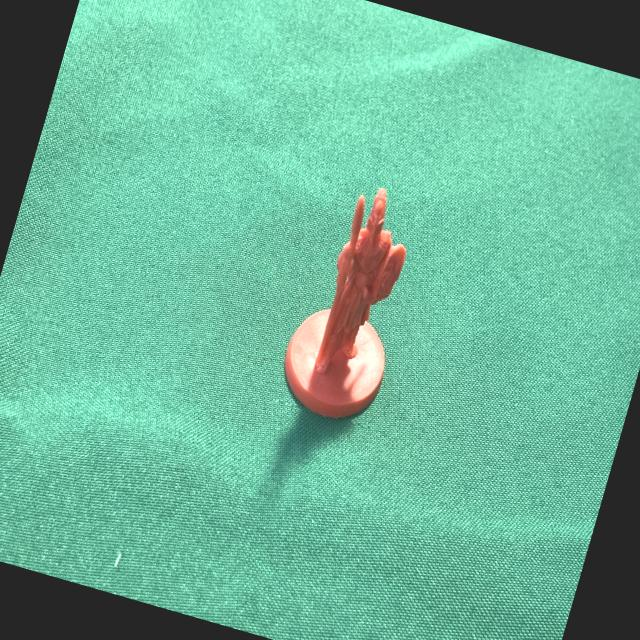amon_follower: (284, 188, 405, 418)
